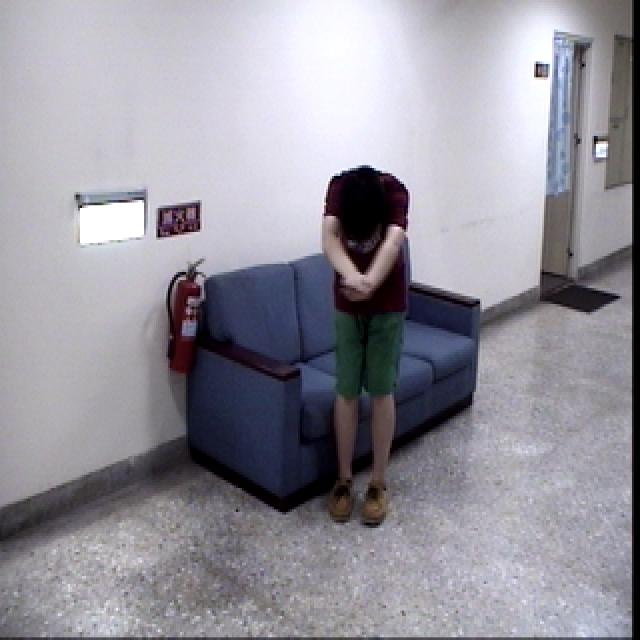bend: (314, 170, 420, 531)
